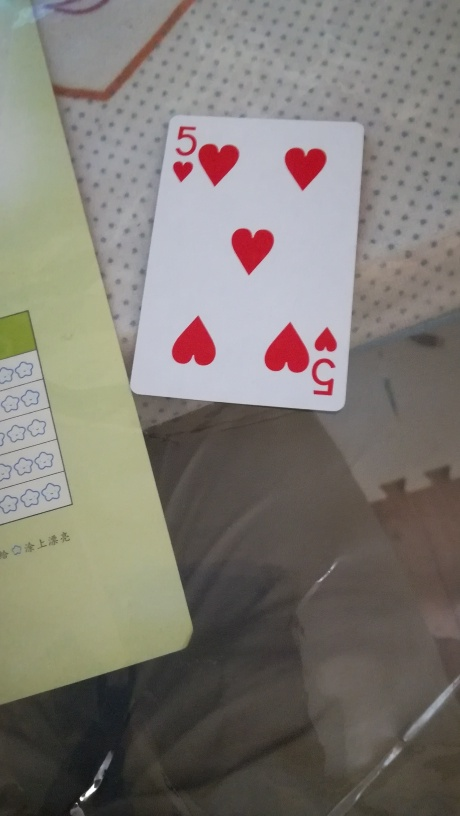hx 5: (130, 112, 366, 414)
